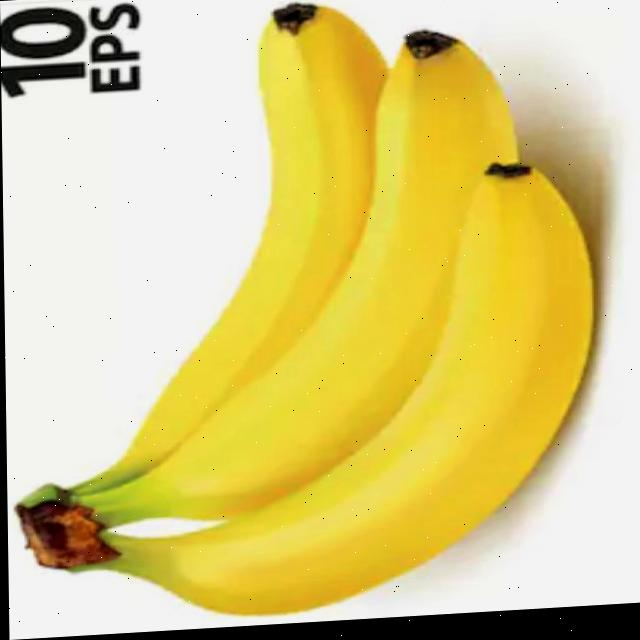banana: (5, 0, 609, 627)
